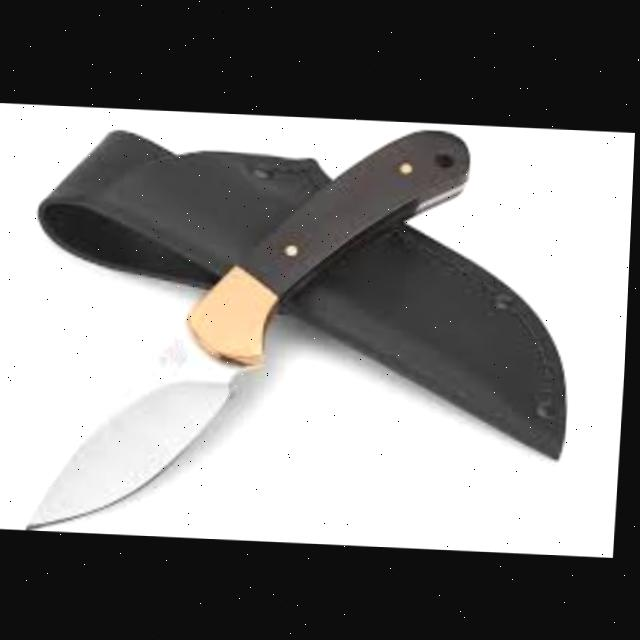Knife: (30, 109, 477, 546)
